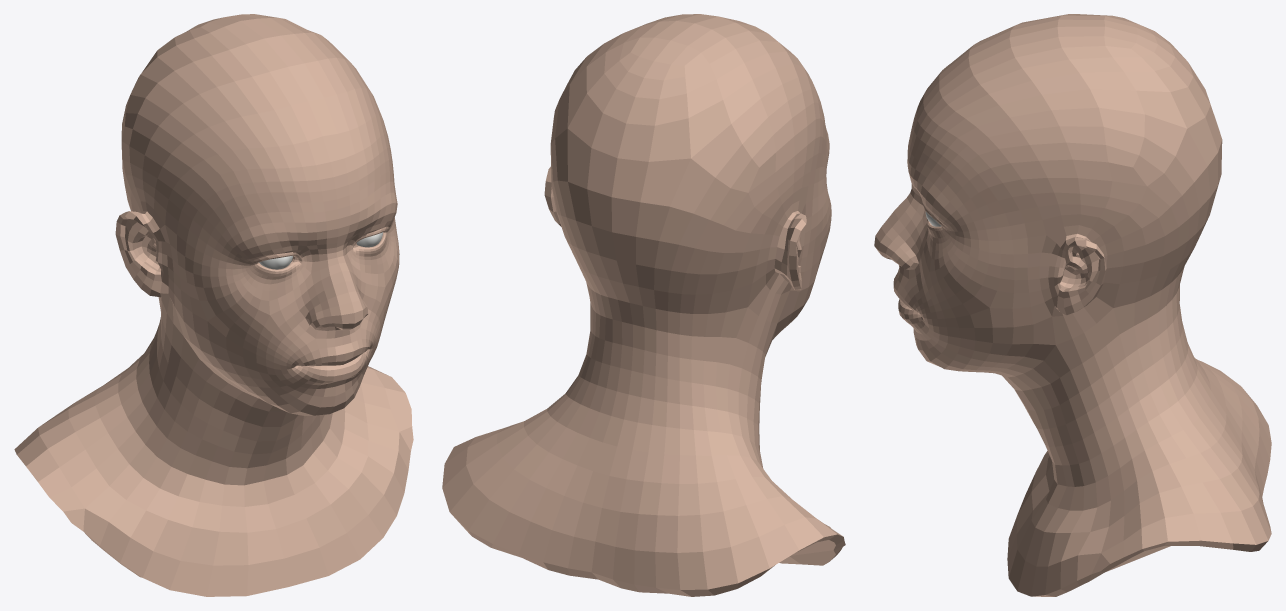
Rendered from realistic-head-sculpt.glb.
The picture shows the model from 3 angles, left to right: view 1: azimuth 30°, elevation 25°; view 2: azimuth 150°, elevation 25°; view 3: azimuth 270°, elevation 25°; orthographic projection.
Parts seen in each view (by area): view 1: CC0_SOURCE_GEO-head_sculpting_realistic; view 2: CC0_SOURCE_GEO-head_sculpting_realistic; view 3: CC0_SOURCE_GEO-head_sculpting_realistic.
Part boxes in pixels (<box>): CC0_SOURCE_GEO-head_sculpting_realistic: <box>14,14,413,596</box>; CC0_SOURCE_GEO-head_sculpting_realistic: <box>442,14,845,596</box>; CC0_SOURCE_GEO-head_sculpting_realistic: <box>874,14,1271,596</box>.
Bounding box in the file's own units: 0.2637 × 0.3638 × 0.2457.
